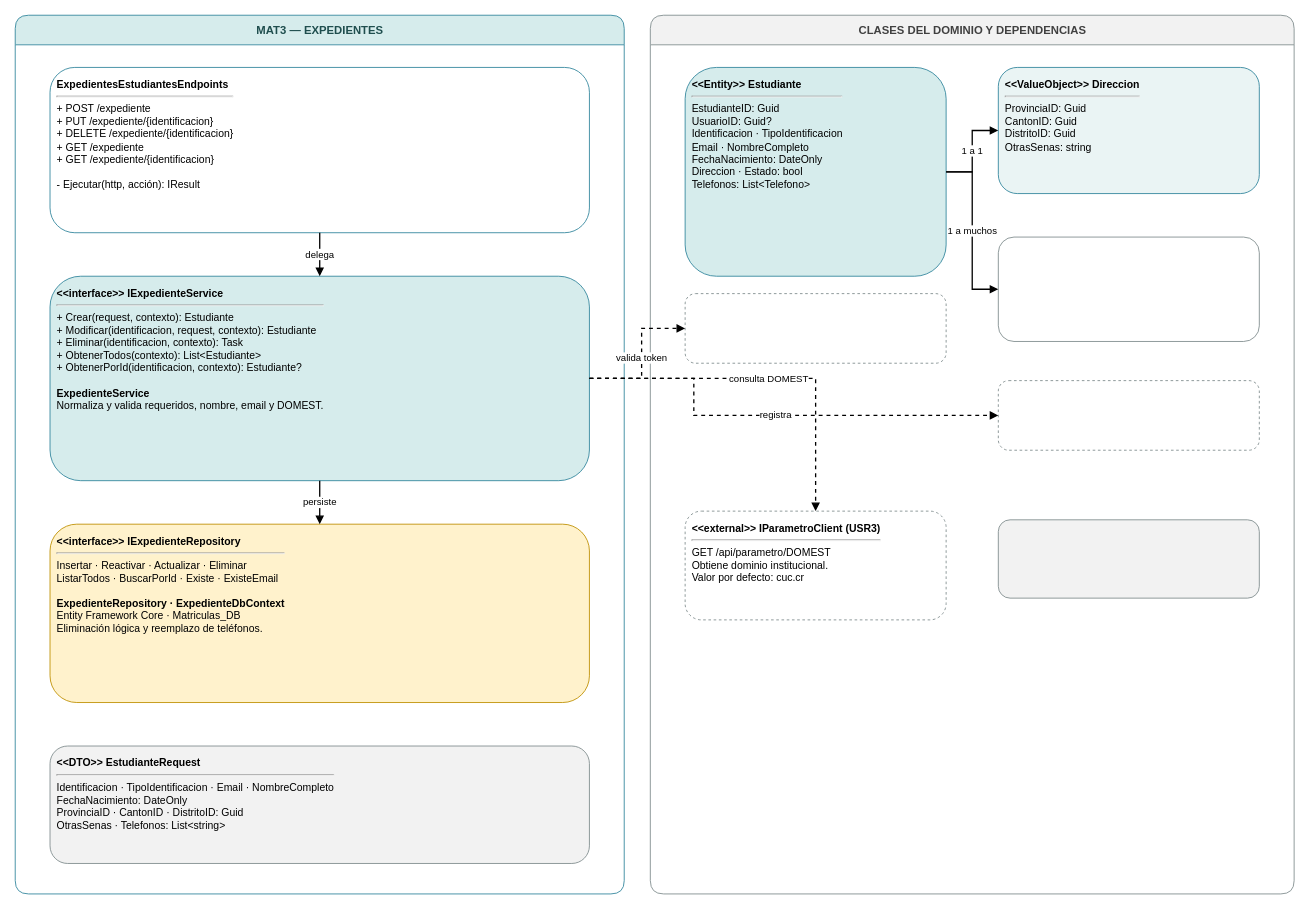
The diagram is 1309 pixels wide and 909 high, and some of its shapes have lost their labels. The centre of each missing label's shape, as x and y in pixels:
<<Entity>> Telefono TelefonoXEstudiante: int EstudianteID: Guid Numero: string: the point at 1128,288
<<external>> IAuthClient (USR5) POST /validate: the point at 815,328
<<external>> IBitacoraClient (GEN1) POST /bitacora: the point at 1128,415
ContextoUsuario UsuarioId: Guid Token: string: the point at 1128,558
